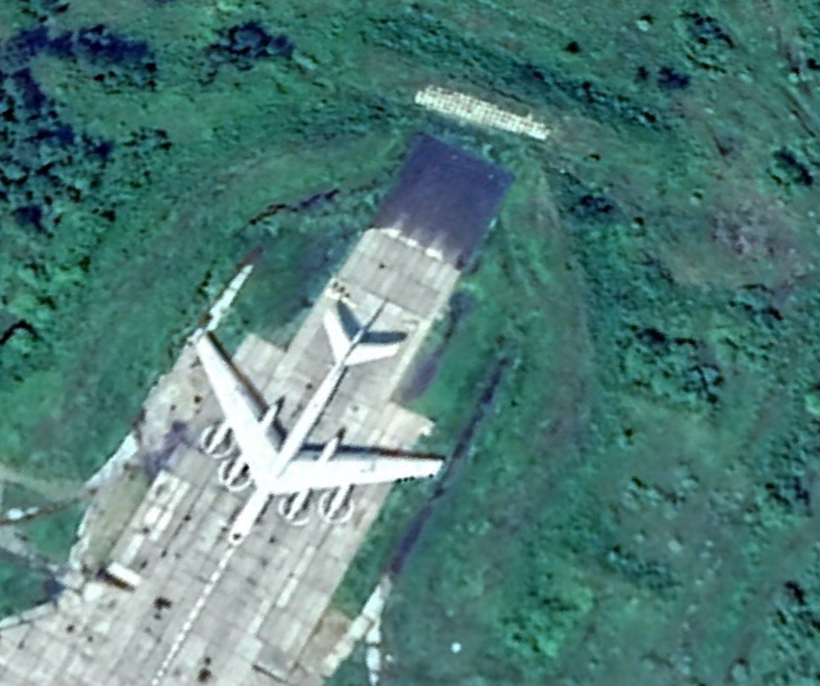A17: (187, 295, 451, 556)
